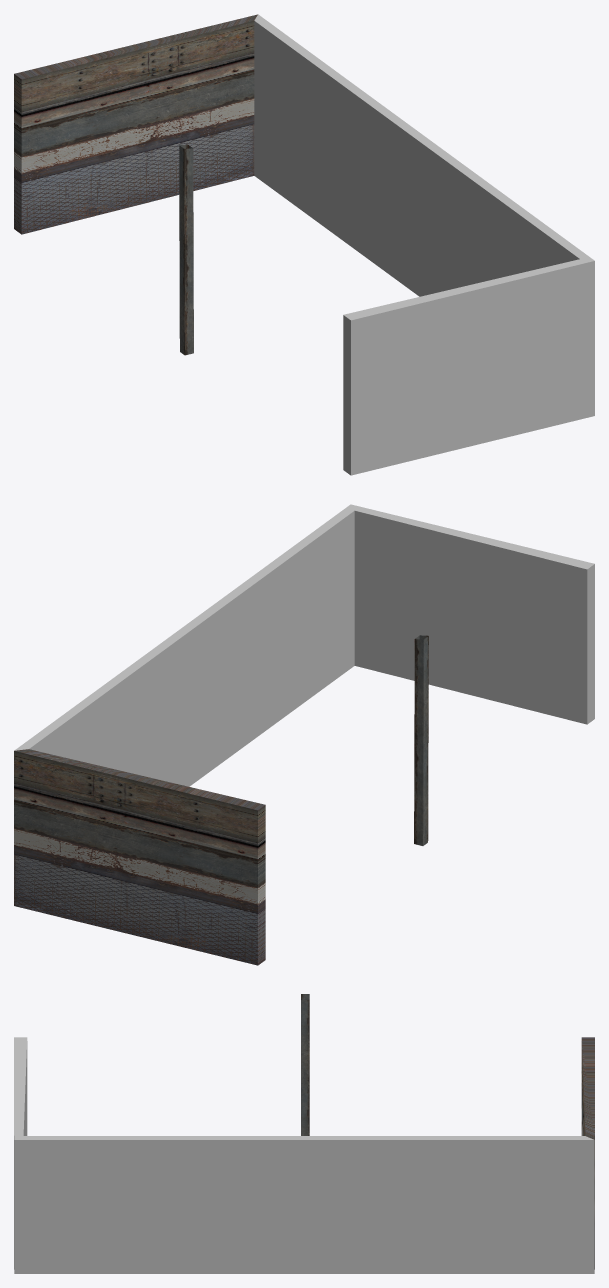
The model's file is MetalShedA_CN.FBX.
3 renders of one model, top to bottom at view 1: azimuth 30°, elevation 25°; view 2: azimuth 150°, elevation 25°; view 3: azimuth 270°, elevation 25°, orthographic. The views are drawn at different scales.
Parts seen in each view (by area): view 1: ShedA_CN; view 2: ShedA_CN; view 3: ShedA_CN.
Boxes of the visible parts, x1,y1,x2,y2 form: ShedA_CN: (14,14,594,475); ShedA_CN: (14,504,594,965); ShedA_CN: (14,994,594,1273).
Size of the model in its own units: 410 by 331 by 978.
